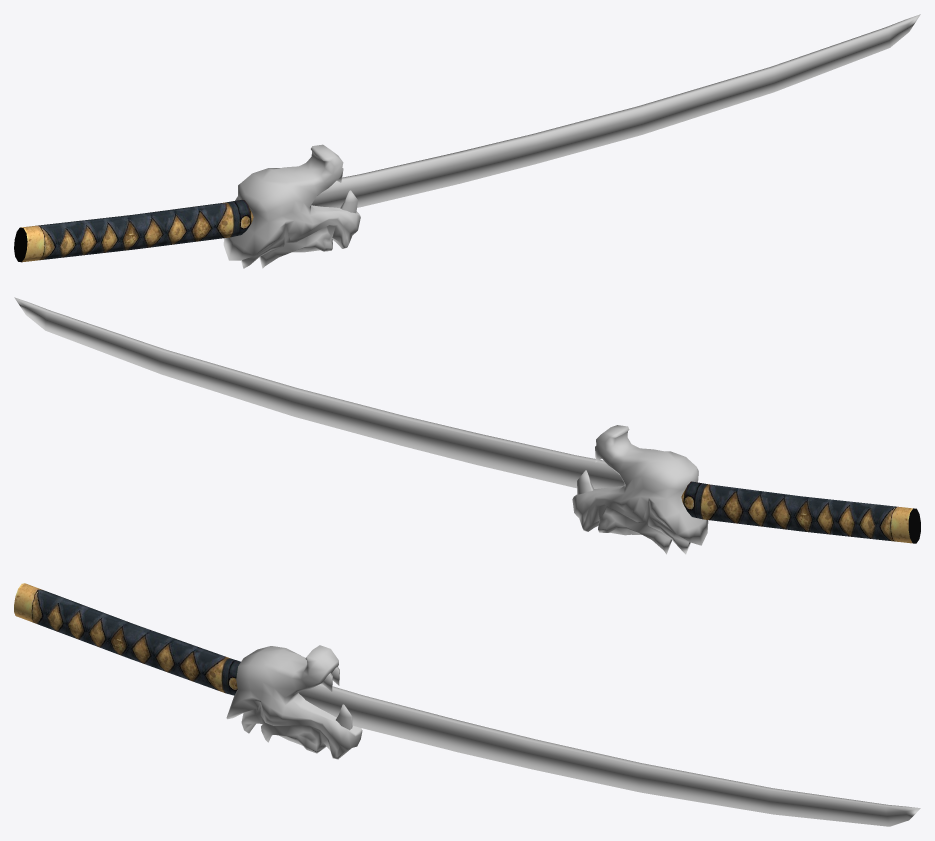
Rendered from Katana D.fbx.
3 views of the same model, one above another, from view 1: azimuth 30°, elevation 25°; view 2: azimuth 150°, elevation 25°; view 3: azimuth 330°, elevation 25° (orthographic).
Visible parts, largest first — view 1: Hilt, Blade; view 2: Hilt, Blade; view 3: Hilt, Blade.
Boxes of the visible parts, <box> form: Hilt: <box>14,144,360,268</box>; Blade: <box>311,14,920,207</box>; Hilt: <box>572,425,920,554</box>; Blade: <box>14,297,624,488</box>; Hilt: <box>14,583,362,759</box>; Blade: <box>299,683,920,826</box>.
Size of the model in its own units: 123 by 14.21 by 8.96.
